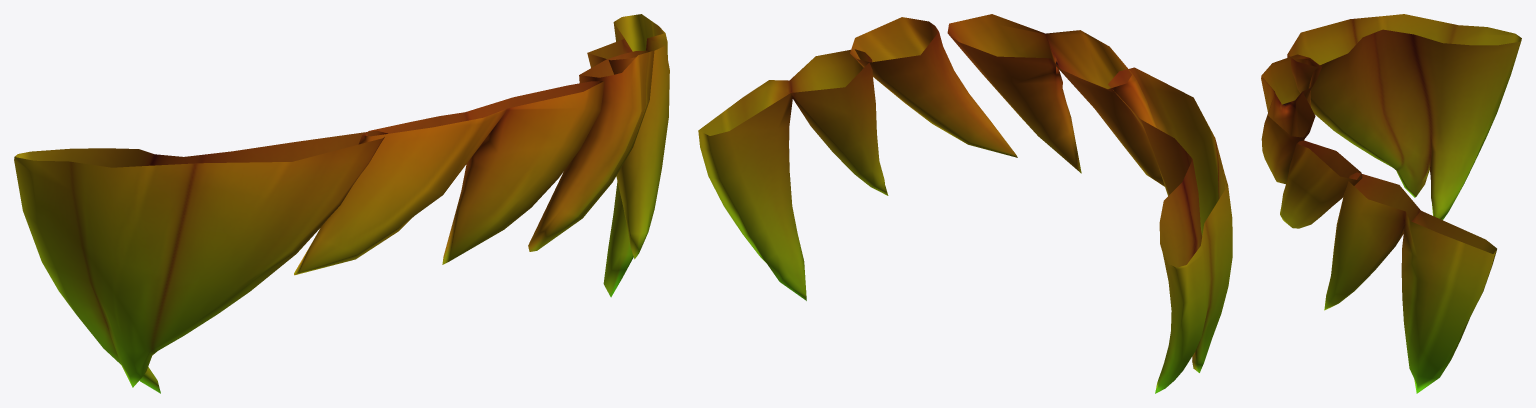
Rendered from BSMC_Outfit_HairFront_Messy_Alt01.fbx.
3 renders of one model, left to right at view 1: azimuth 30°, elevation 25°; view 2: azimuth 150°, elevation 25°; view 3: azimuth 270°, elevation 25°, orthographic. The views are drawn at different scales.
Parts seen in each view (by area): view 1: BSMC_Outfit_HairFront_Messy_Alt01; view 2: BSMC_Outfit_HairFront_Messy_Alt01; view 3: BSMC_Outfit_HairFront_Messy_Alt01.
Boxes of the visible parts, x1,y1,x2,y2 form: BSMC_Outfit_HairFront_Messy_Alt01: [14, 14, 669, 393]; BSMC_Outfit_HairFront_Messy_Alt01: [698, 14, 1232, 393]; BSMC_Outfit_HairFront_Messy_Alt01: [1261, 14, 1521, 393].
Bounding box in the file's own units: 20.41 × 9.93 × 10.04.
